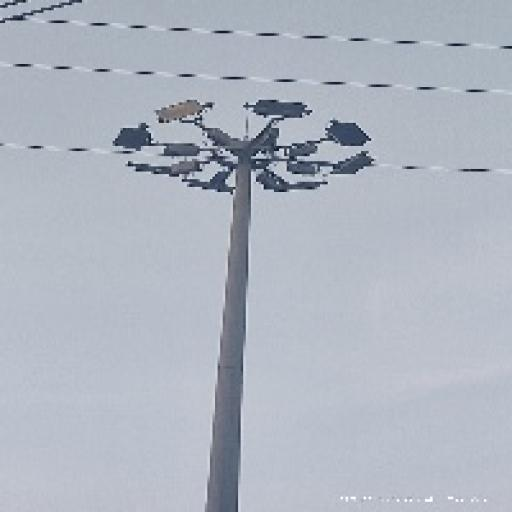Not Working: (149, 92, 217, 129), (243, 92, 313, 127), (318, 111, 374, 152), (104, 122, 157, 154), (329, 149, 378, 181), (181, 172, 236, 198), (158, 138, 206, 162), (124, 158, 170, 182), (163, 155, 203, 180), (256, 171, 294, 197)
